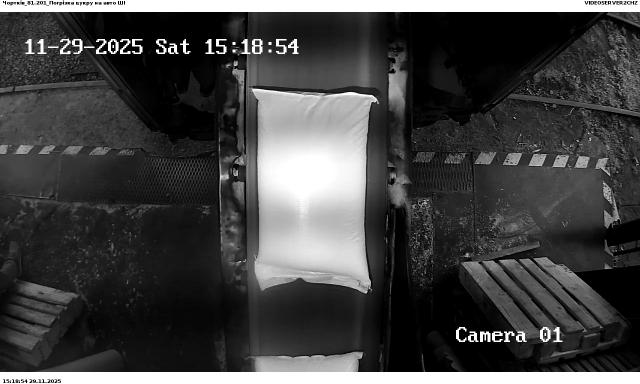bag: (251, 87, 379, 293), (253, 350, 364, 372)
